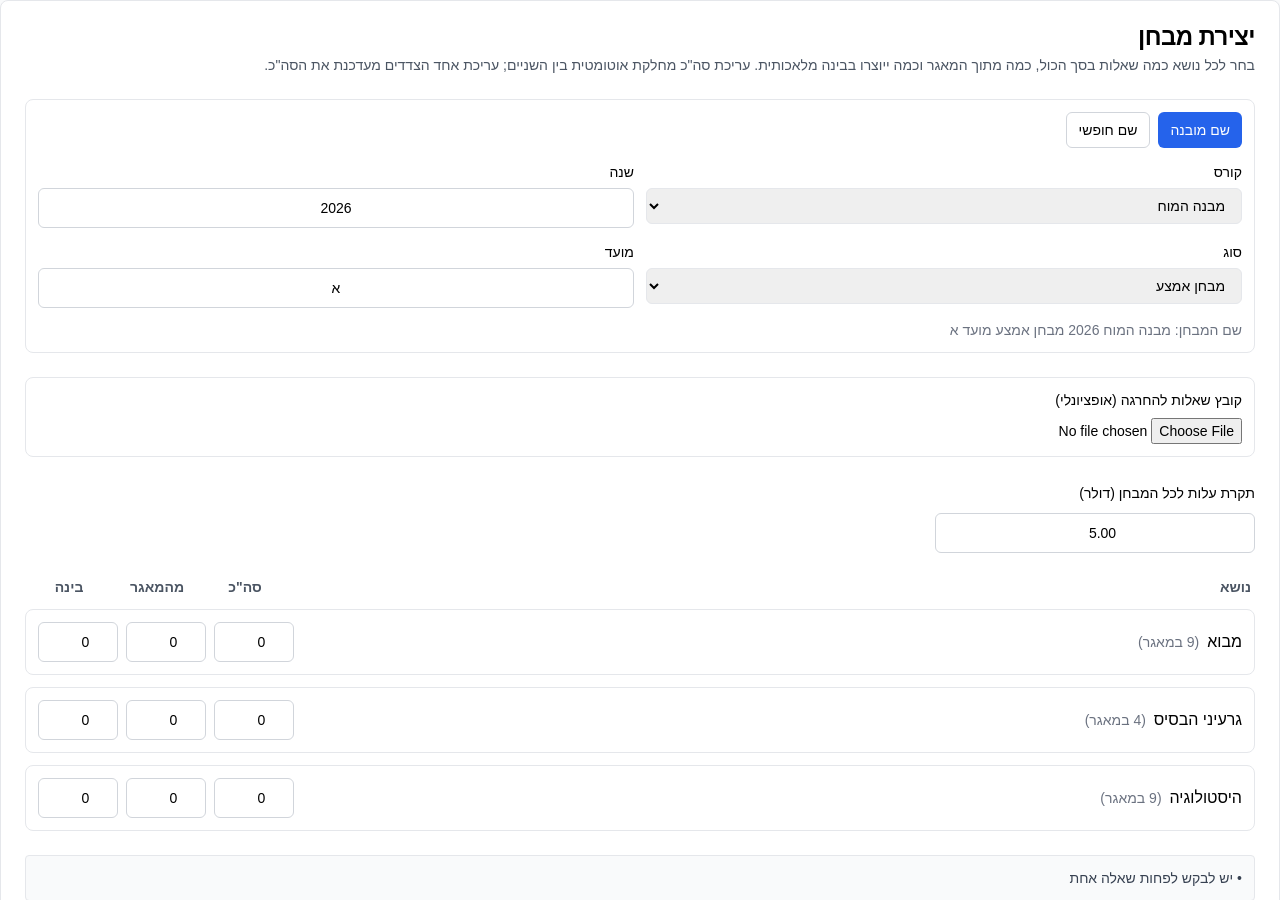
builder › editing C splits into A=ceil, B=floor; editing A/B recomputes C
Replace the text in the number field named "סה\"כ שאלות עבור מבוא" with "7": (254, 642) [214,622,294,662]
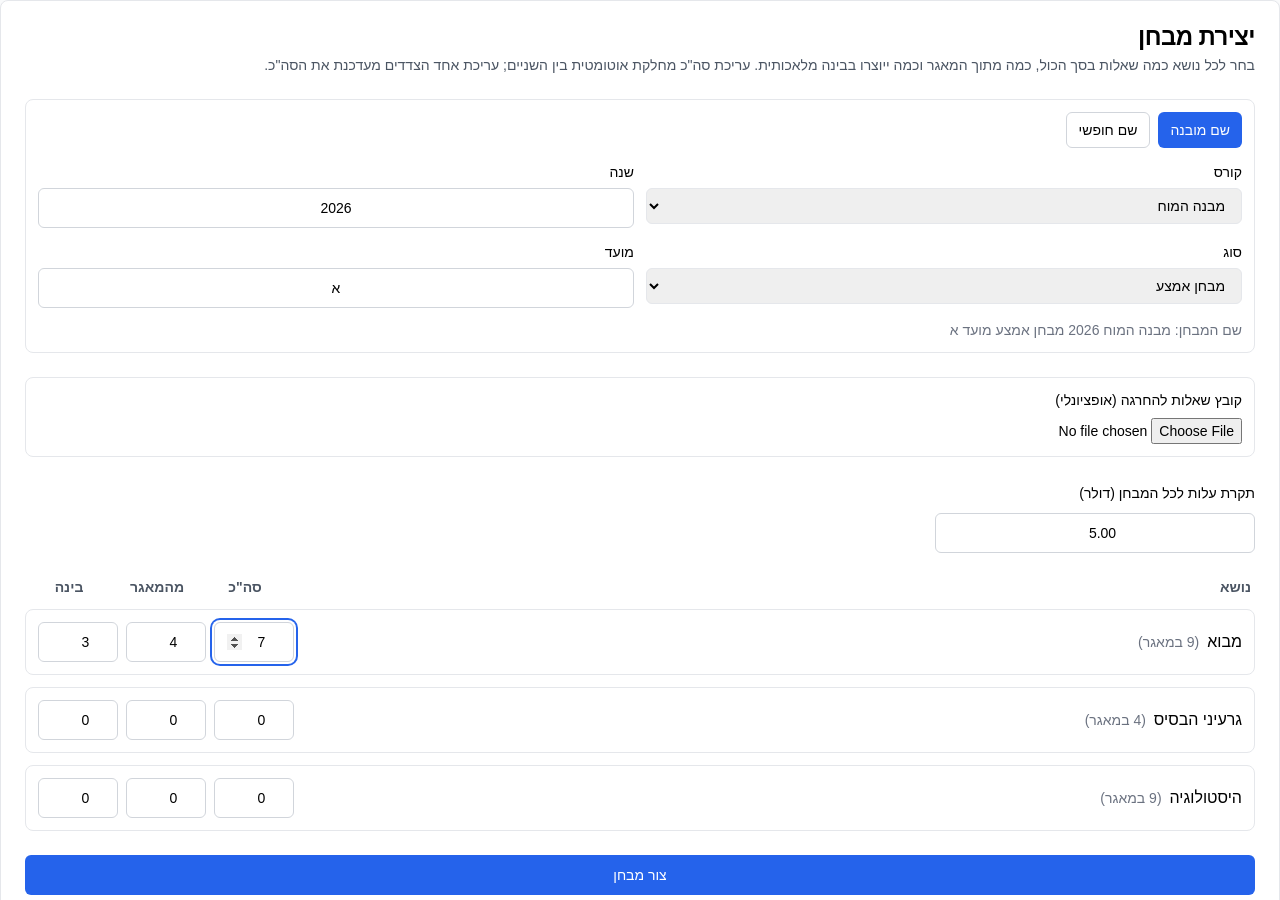
Expected: the number field named "שאלות מהמאגר עבור מבוא" holds "4"
Expected: the number field named "שאלות בבינה מלאכותית עבור מבוא" holds "3", [38,622,118,662]
Replace the text in the number field named "שאלות מהמאגר עבור מבוא" with "2": (166, 642) [126,622,206,662]
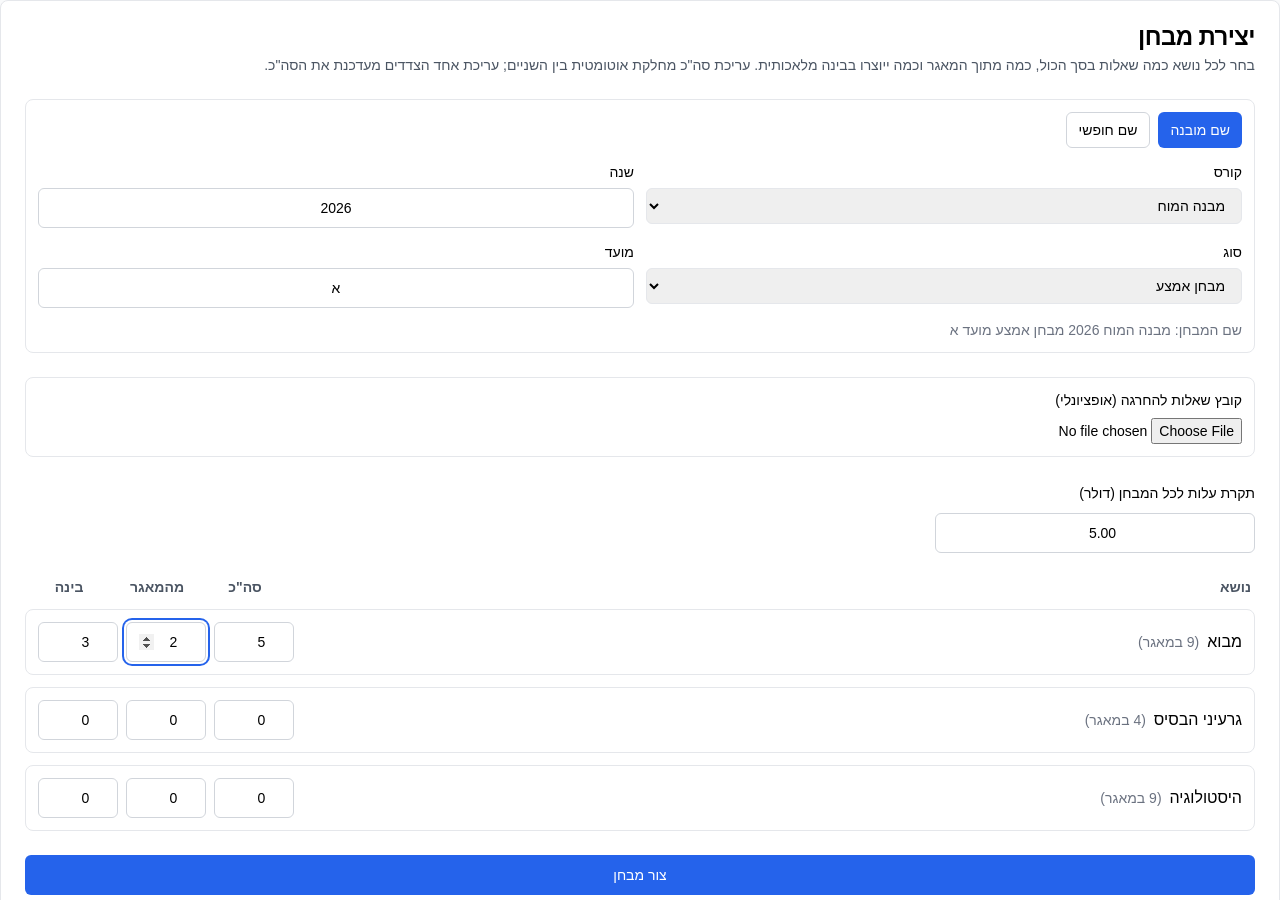
Expected: the number field named "סה\"כ שאלות עבור מבוא" holds "5", [214,622,294,662]
